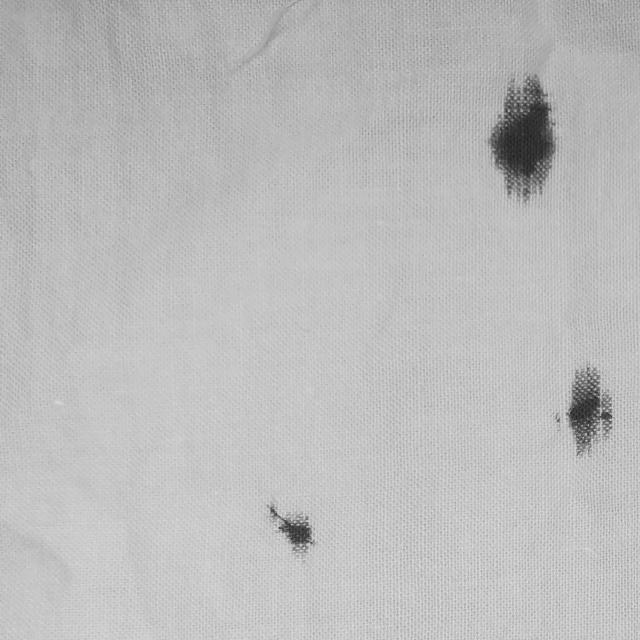Stain: (490, 75, 556, 201), (568, 367, 613, 456), (267, 504, 314, 560)
